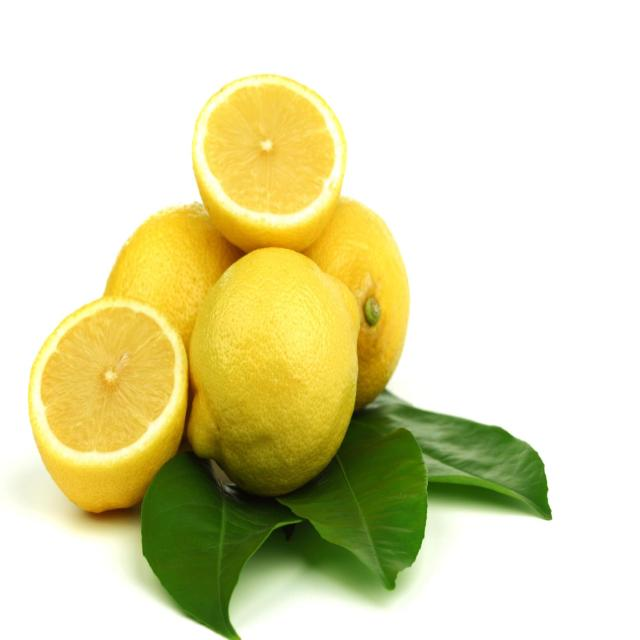lemon: (182, 237, 365, 496), (26, 290, 191, 519), (189, 69, 349, 254)
